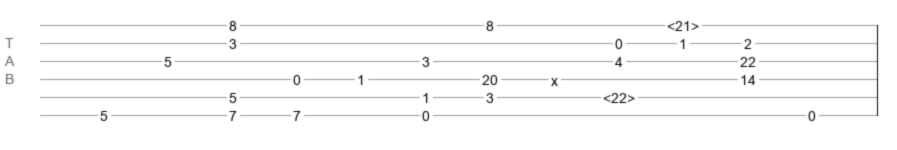0: (293, 72, 301, 82), (422, 108, 430, 118), (615, 36, 623, 46), (808, 108, 816, 118)
1: (357, 72, 365, 82), (422, 90, 430, 100), (679, 36, 687, 46)
14: (740, 72, 756, 82)
2: (744, 36, 752, 46)
20: (482, 72, 498, 82)
22: (740, 54, 756, 64)
3: (229, 36, 237, 46), (422, 54, 430, 64), (486, 90, 494, 100)
4: (615, 54, 623, 64)
5: (100, 108, 108, 118), (164, 54, 172, 64), (229, 90, 237, 100)
7: (229, 108, 237, 118), (293, 108, 301, 118)
8: (229, 18, 237, 28), (486, 18, 494, 28)
harmonic: (603, 90, 635, 100), (667, 18, 699, 28)
x: (551, 73, 558, 81)
